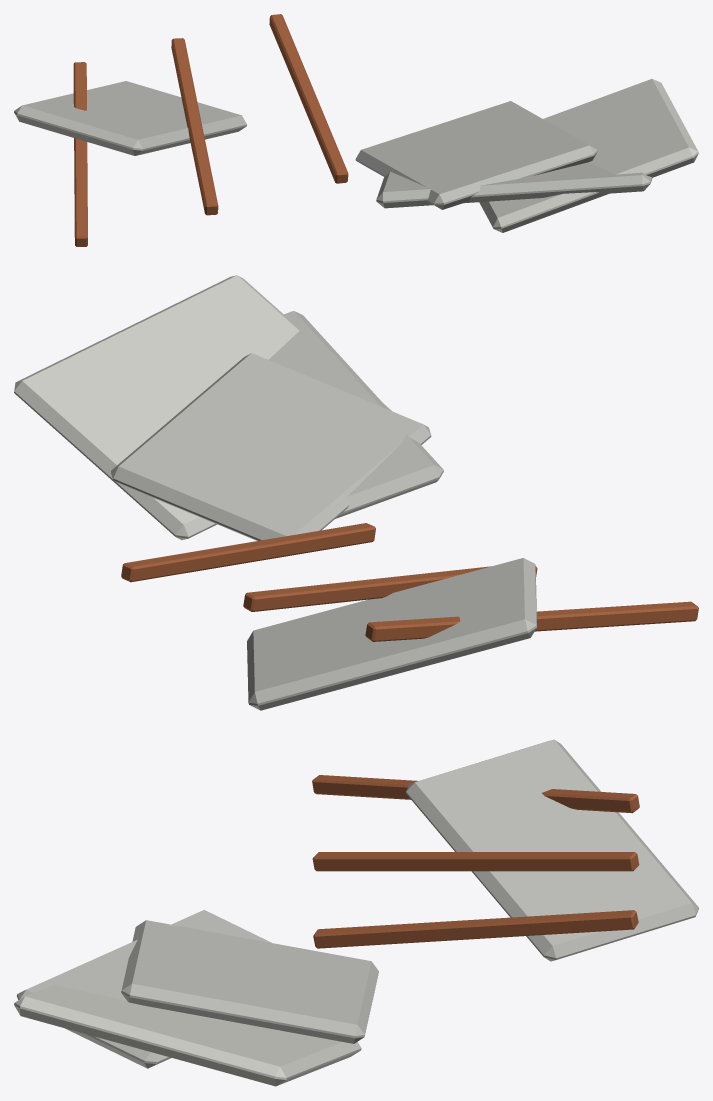
Rendered from Debris_Cluster_3.glb.
3 views of the same model, one above another, from view 1: azimuth 30°, elevation 25°; view 2: azimuth 150°, elevation 25°; view 3: azimuth 270°, elevation 25° (orthographic). The views are drawn at different scales.
Parts seen in each view (by area): view 1: Debris_Cluster_3; view 2: Debris_Cluster_3; view 3: Debris_Cluster_3.
Part boxes in pixels (box(x1,y1,x2,y2)): Debris_Cluster_3: box(14, 14, 698, 246); Debris_Cluster_3: box(14, 275, 698, 710); Debris_Cluster_3: box(14, 739, 698, 1086).
Size of the model in its own units: 1.74 by 0.2737 by 1.5.
